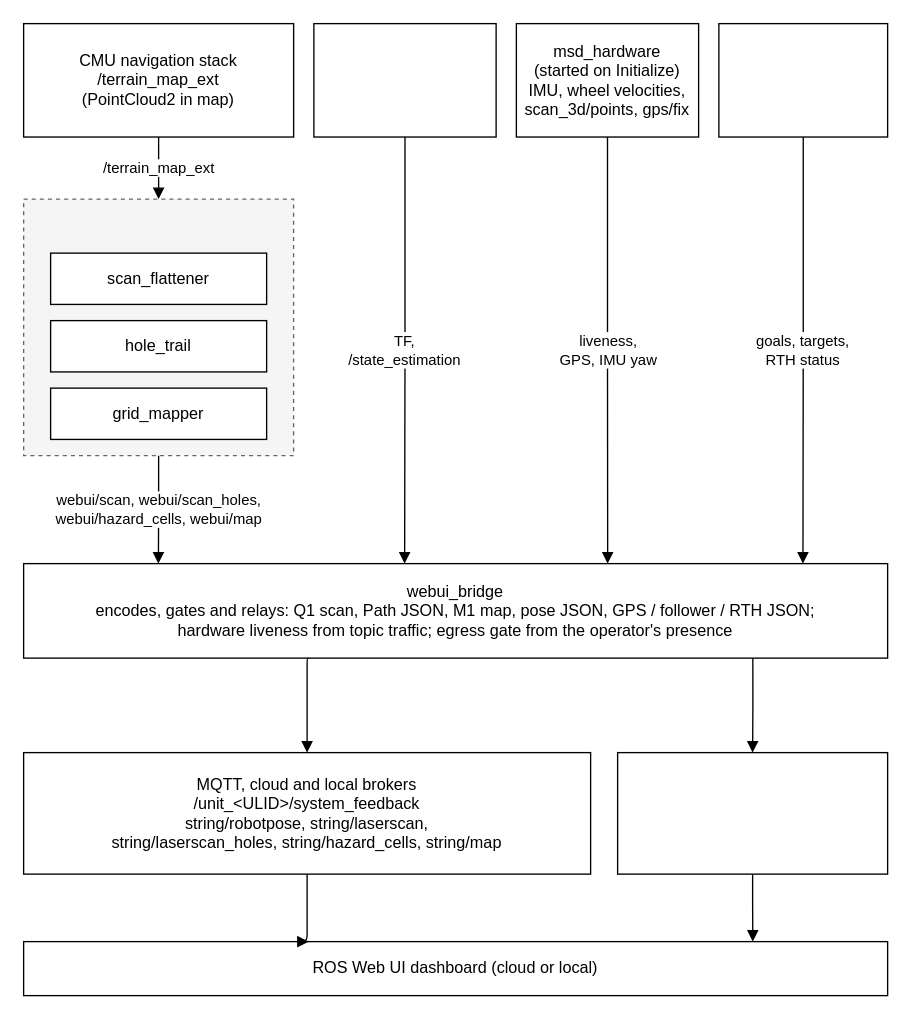
This 911x1019 diagram has some shape labels left out. Each missing label, with the box of its shape:
follower, msd_rth (launch layers) goals, target points, webui/rth/status: (718, 22, 888, 137)
Localisation TF map to base_link, base_footprint /state_estimation: (313, 22, 496, 137)
MQTT, local broker only string/gps string/follower_status string/rth_status: (616, 751, 888, 874)
msd_webui_views (needs TF map to base_footprint): (22, 198, 294, 456)
